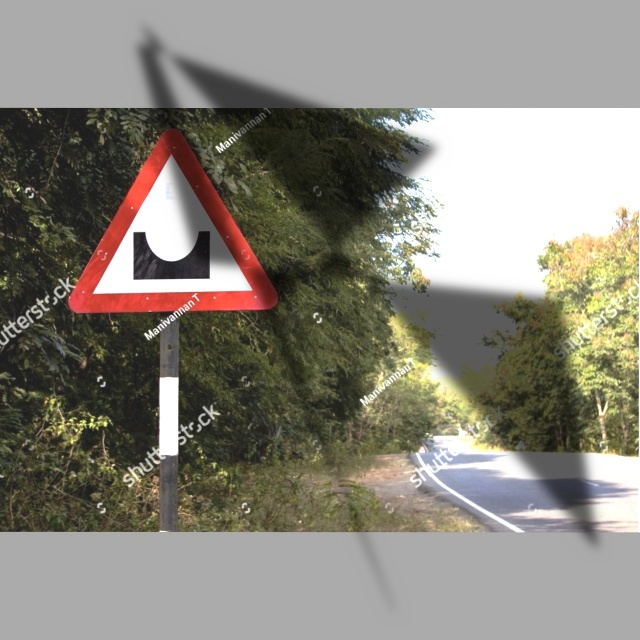Dangerous_Dip: (66, 130, 274, 311)
